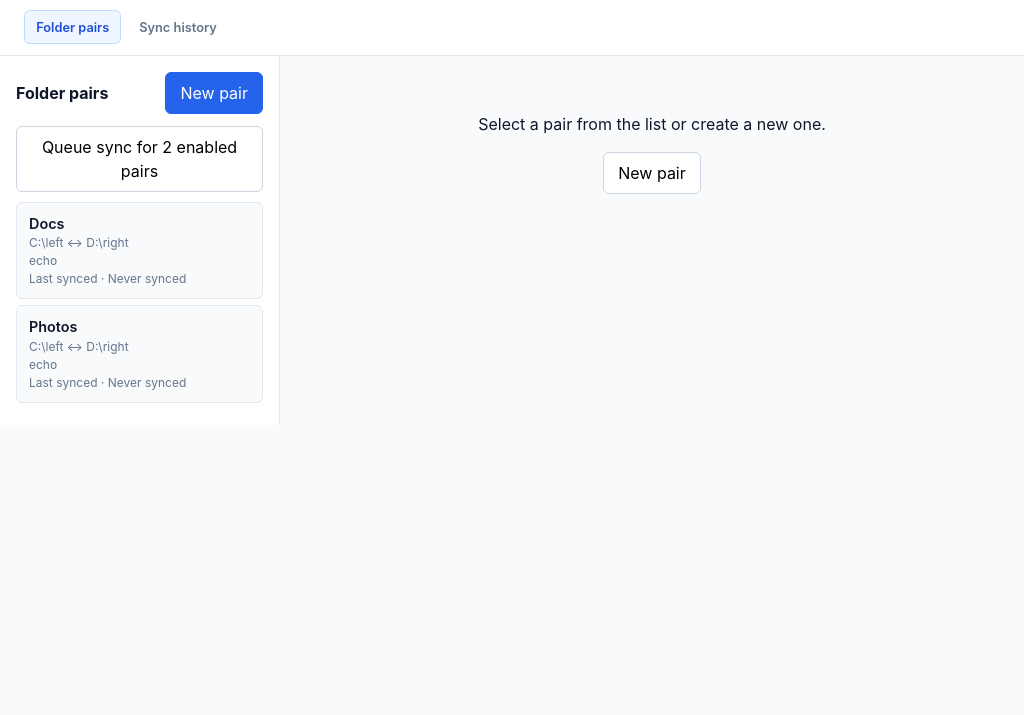
Test case: sync queue view › queues a second pair while the first one runs
Click the button "Docs C:\\left ↔ D:\\right echo Last synced · Never synced" at (140, 251), box [16,202,263,299]
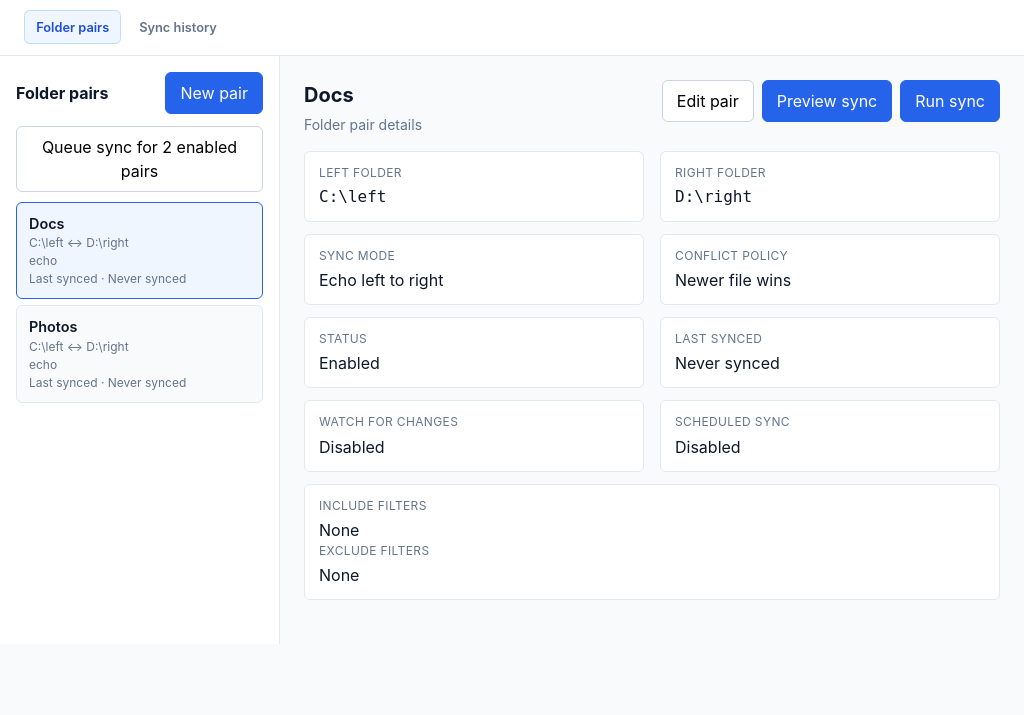
Click the button "Run sync" at (950, 101), box [900,80,1000,122]
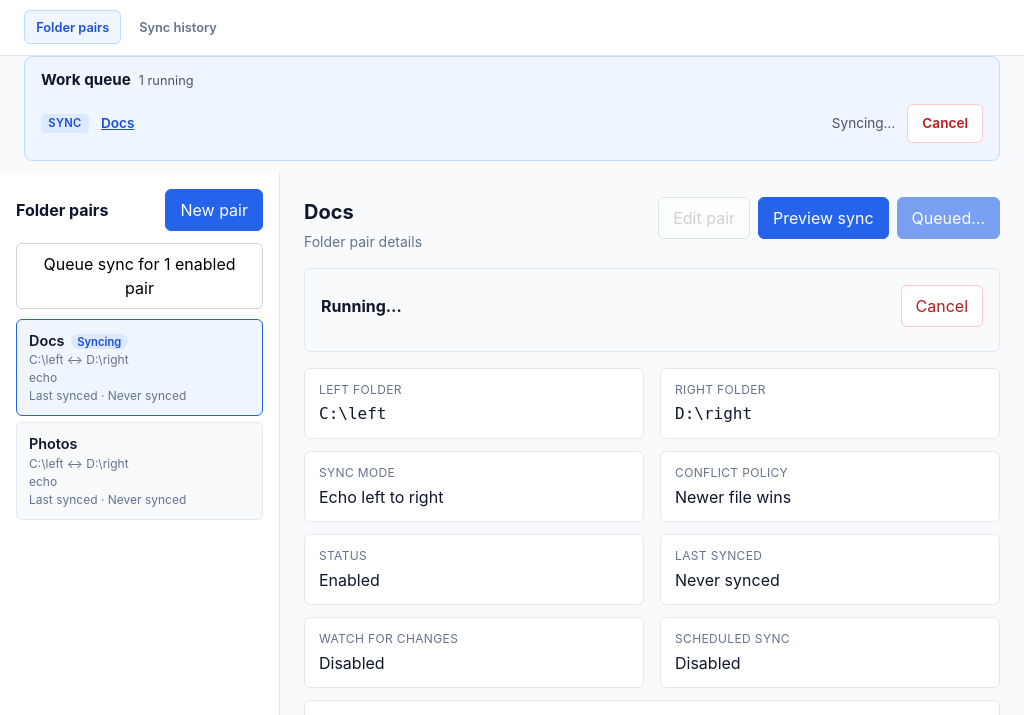
Note: Selecting another pair mid-run is allowed, and queues independently.
Click the button "Photos C:\\left ↔ D:\\right echo Last synced · Never synced" at (140, 471), box [16,422,263,520]
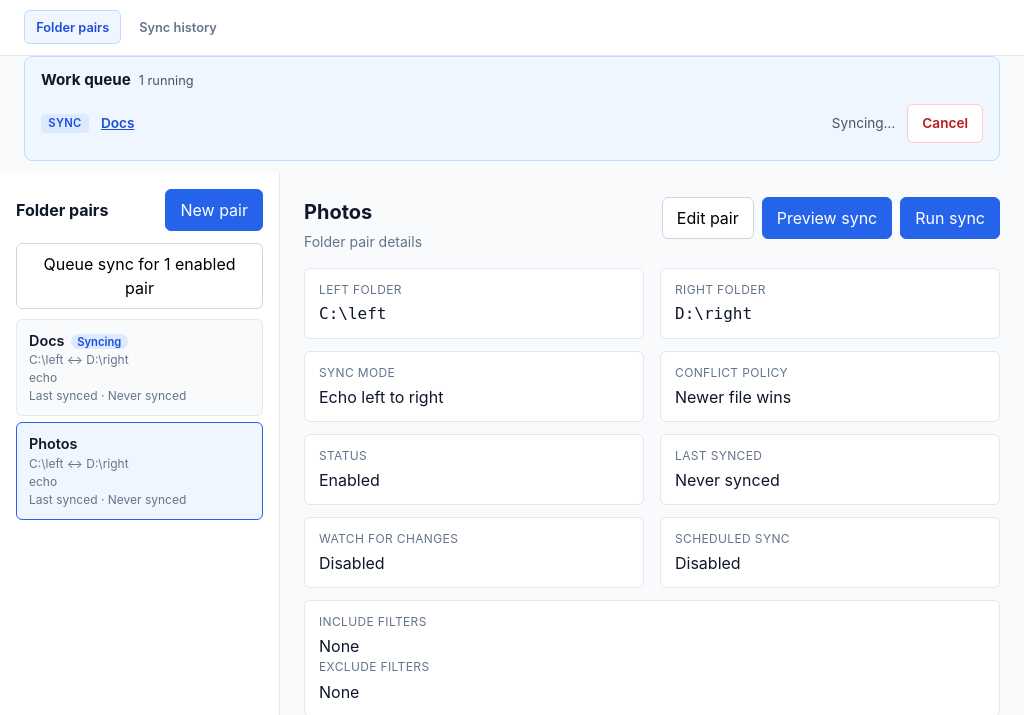
Click the button "Run sync" at (950, 218), box [900,196,1000,238]
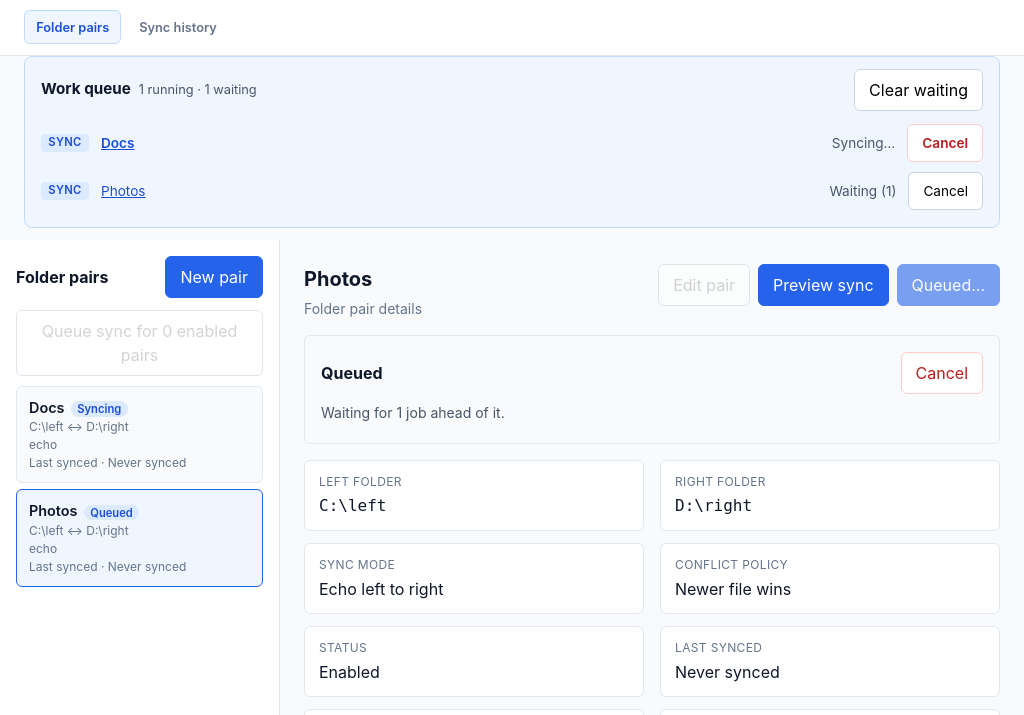
Expected: the element labelled "Work queue" is shown, [24,56,1000,228]
Expected: the text "1 running · 1 waiting" is shown, [139,80,257,100]
